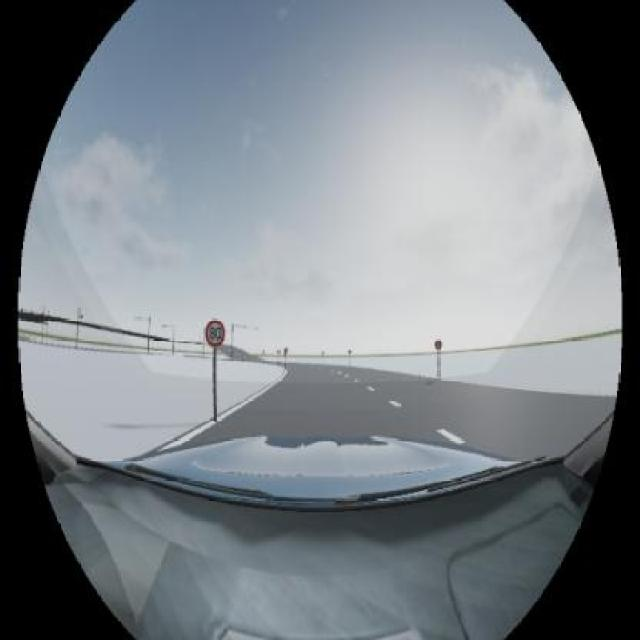forb_speed_over_80: (205, 319, 225, 346)
